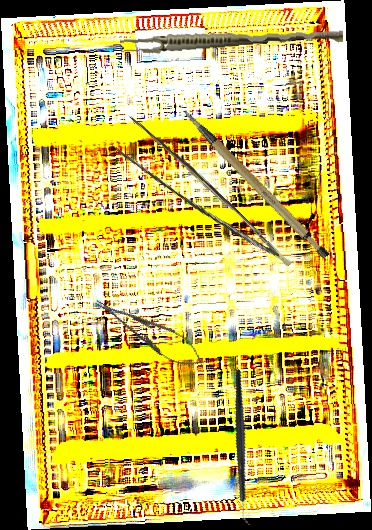Chopper: (189, 368, 299, 527)
Needle Holder: (88, 288, 212, 377)
Scalpel Handle: (182, 89, 332, 275)
Tissue Forceps: (105, 109, 292, 293), (119, 22, 344, 58)
